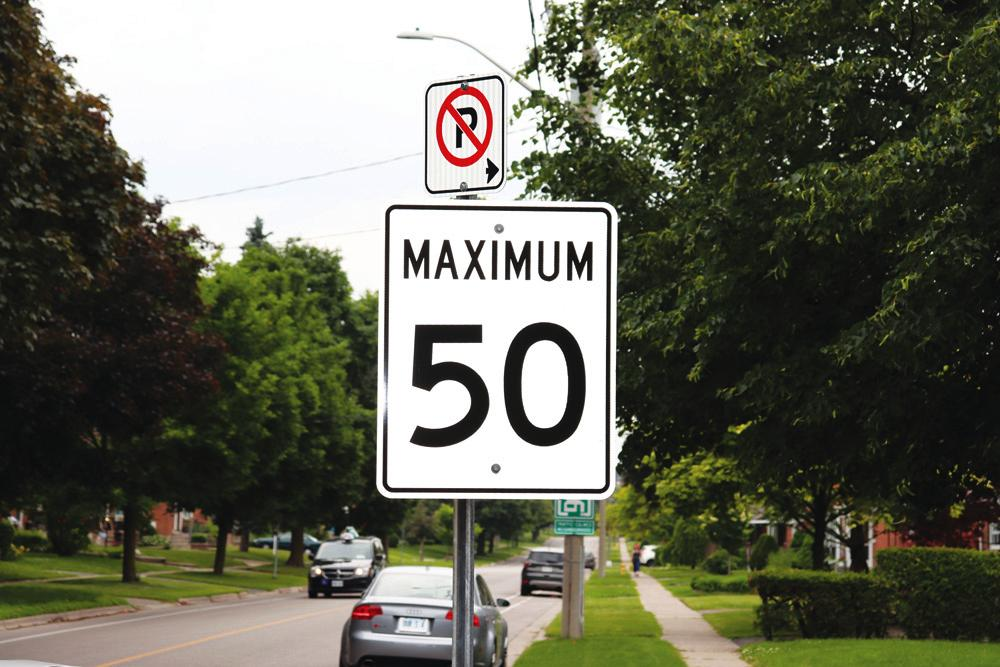speed limit sign: (375, 206, 615, 497)
